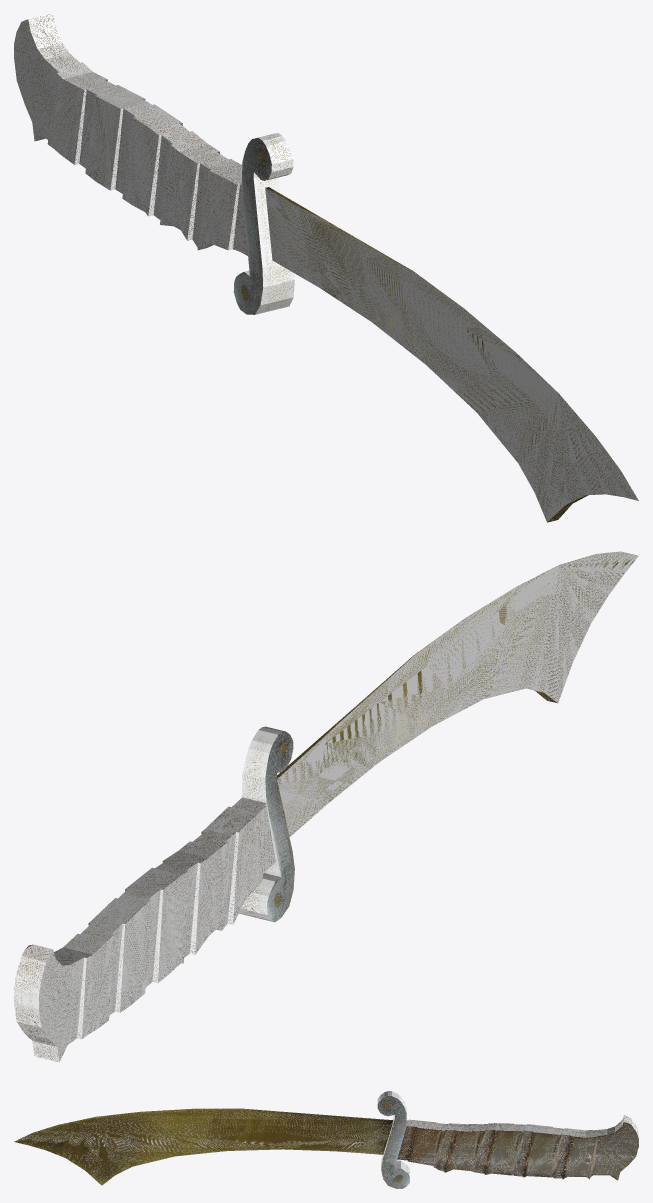
File: model_align.obj
3 views of the same model, one above another, from view 1: azimuth 30°, elevation 25°; view 2: azimuth 150°, elevation 25°; view 3: azimuth 270°, elevation 25° (orthographic). The views are drawn at different scales.
Visible parts, largest first — view 1: mesh1_mesh1-geometry; view 2: mesh1_mesh1-geometry; view 3: mesh1_mesh1-geometry.
Boxes of the visible parts, bbox=[...] form: mesh1_mesh1-geometry: bbox=[14, 14, 638, 522]; mesh1_mesh1-geometry: bbox=[14, 551, 638, 1062]; mesh1_mesh1-geometry: bbox=[14, 1091, 638, 1188].
Bounding box in the file's own units: 0.00693 × 0.0331 × 0.2064.
Materials: 11 (10 with a texture image).
